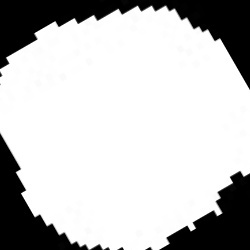spot: (1, 4, 247, 249)
